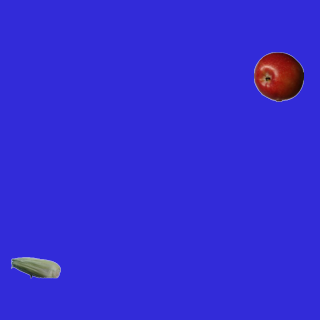Apple Braeburn: (253, 51, 303, 101)
Corn Husk: (10, 242, 60, 292)
